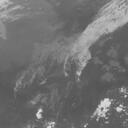cyclone: (34, 44, 90, 94)
